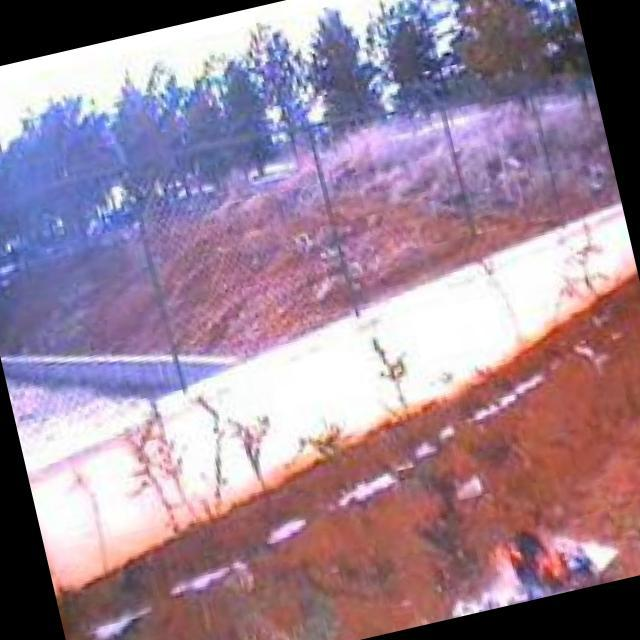Fire: (485, 519, 599, 608)
